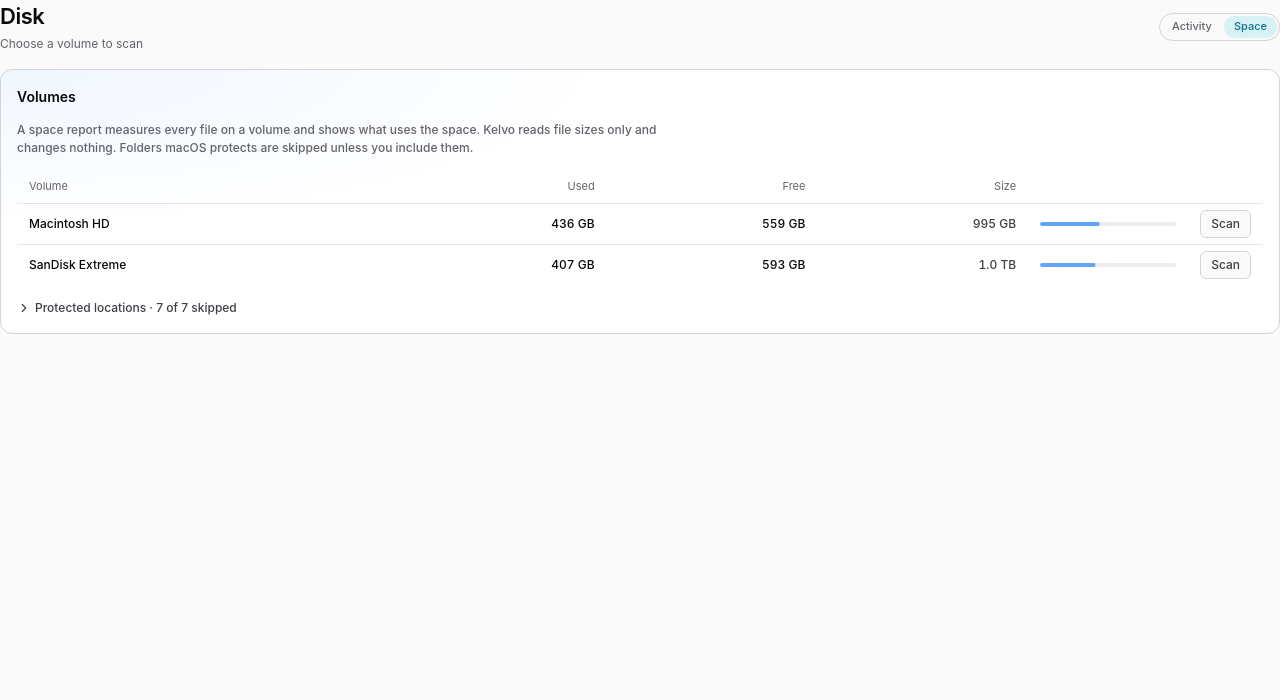
Disk › Space › marks the volume being scanned and leads back to its scan
Click the button with aria-label "Scan Macintosh HD" at [1226, 224], box [1200,210,1251,238]
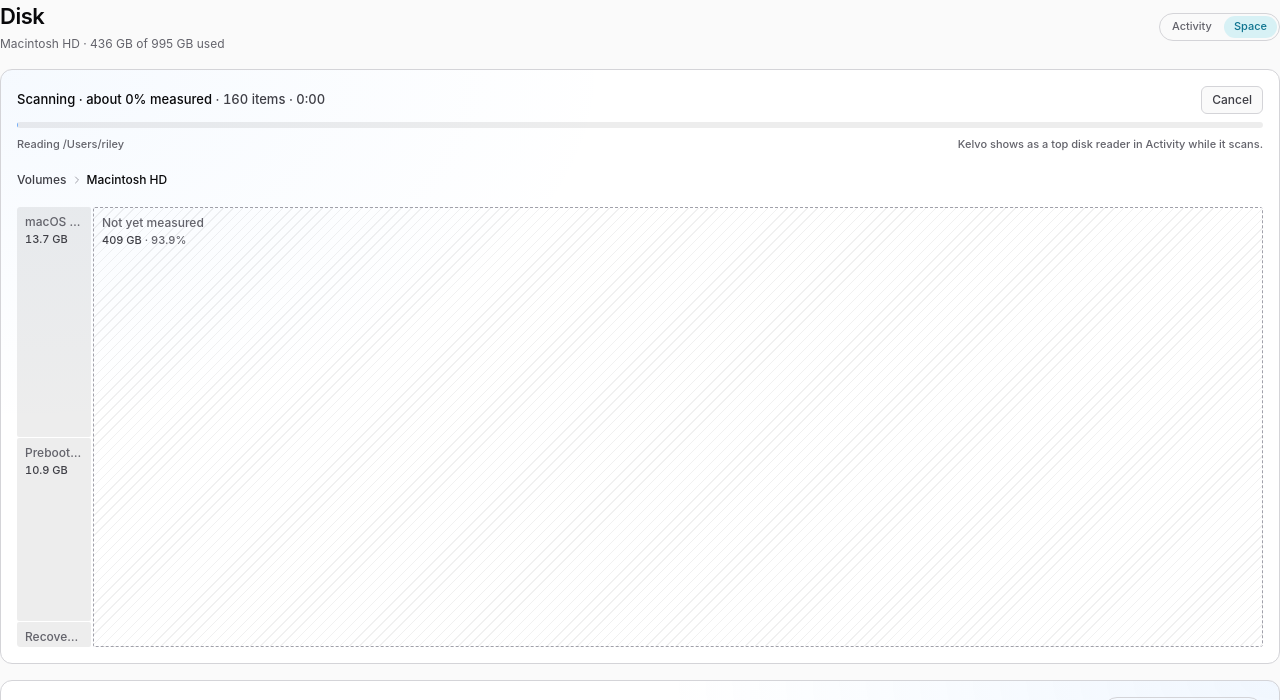
expect the text "Scanning · about 0% measured · 160 items · 0:00" is shown: met, box [17,90,325,110]
Click the button "Volumes" at [42, 180], box [13,168,70,190]
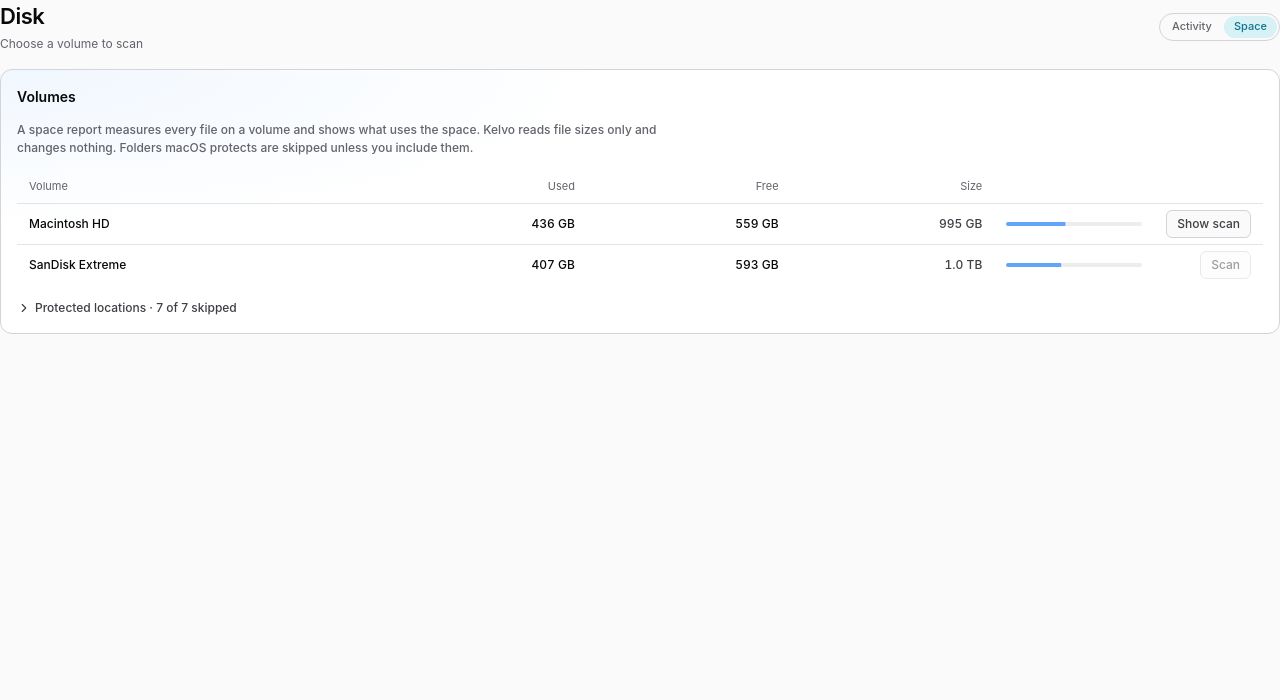
expect the button with aria-label "Scan SanDisk Extreme" is disabled: met, box [1200,250,1251,278]
Click the button with aria-label "Show the scan of Macintosh HD" at [1209, 224], box [1166,210,1251,238]
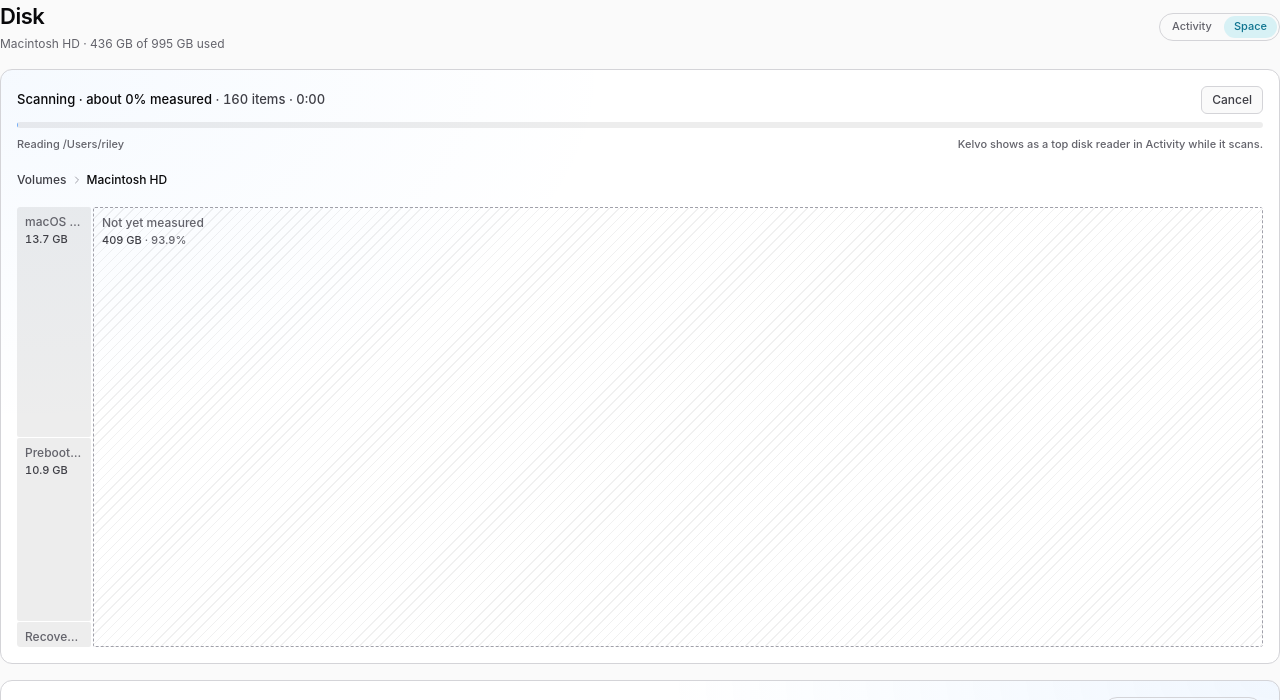
expect the text "Scanning · about 0% measured · 160 items · 0:00" is shown: met, box [17,90,325,110]
